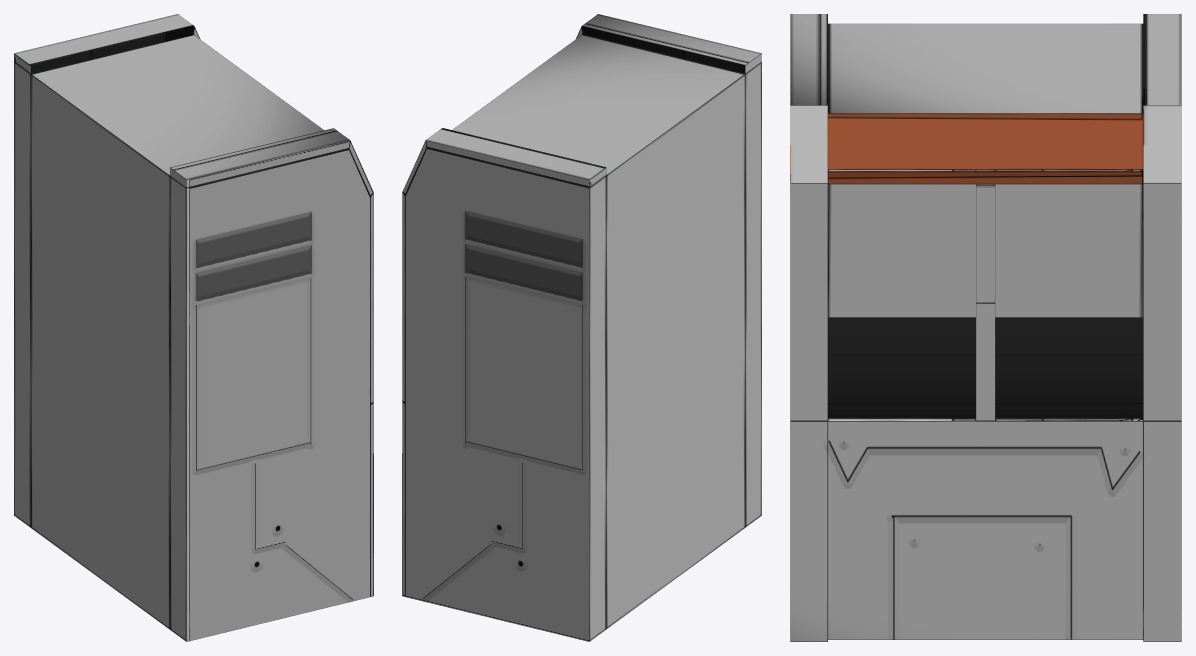
File: Shelf.glb
3 views of the same model, side by side, from view 1: azimuth 30°, elevation 25°; view 2: azimuth 150°, elevation 25°; view 3: azimuth 270°, elevation 25° (orthographic). The views are drawn at different scales.
Parts seen in each view (by area): view 1: Shelf; view 2: Shelf; view 3: Shelf.
Part boxes in pixels (x1,y1,x2,y2): Shelf: [14, 14, 373, 641]; Shelf: [402, 14, 761, 641]; Shelf: [790, 14, 1181, 641].
Bounding box in the file's own units: 2.56 × 6.04 × 4.09.
1 material, 1 textured.
